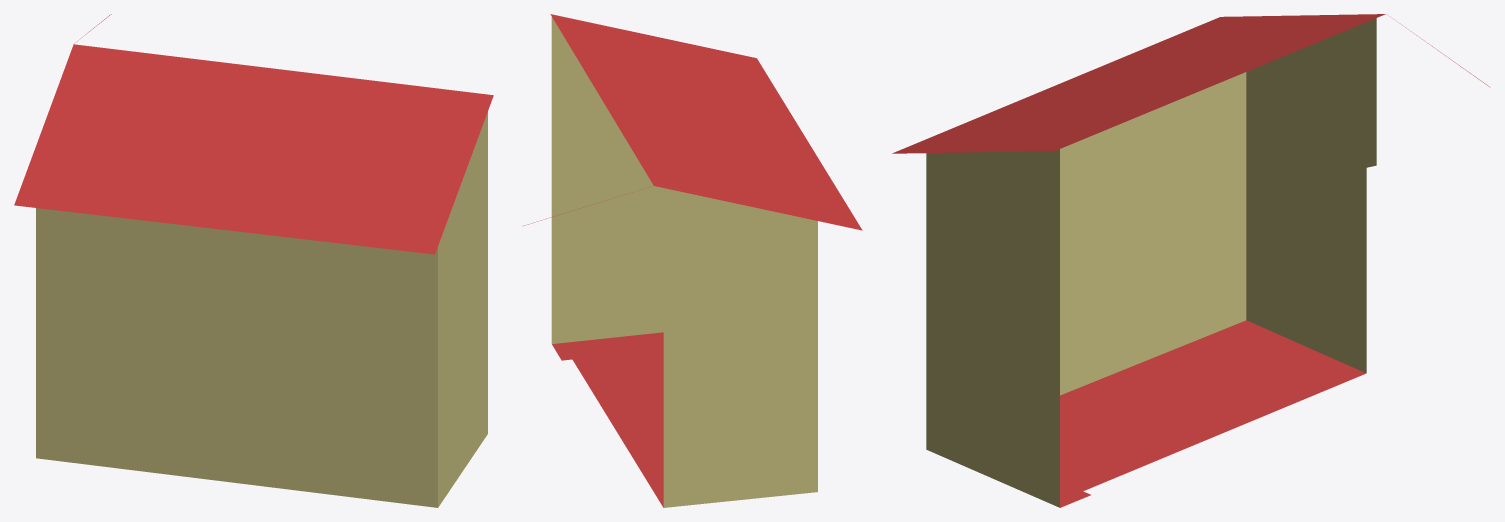
3 views of the same model, side by side, from view 1: azimuth 30°, elevation 25°; view 2: azimuth 150°, elevation 25°; view 3: azimuth 270°, elevation 25° (orthographic). The views are drawn at different scales.
Bounding box in the file's own units: 11.21 × 13.7 × 9.08.
